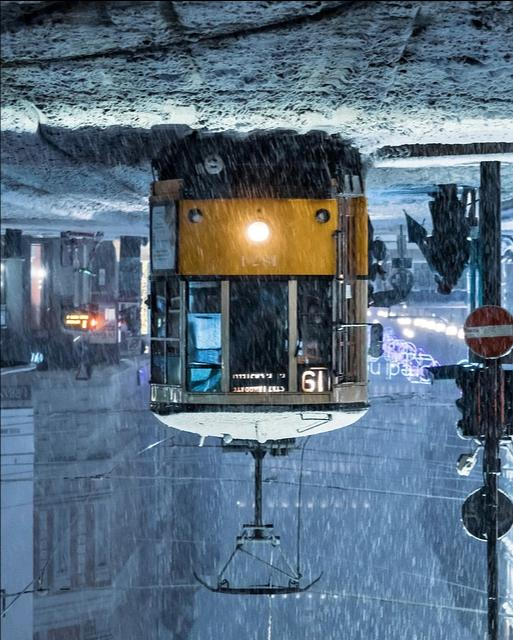Non_Gorille: (57, 98, 481, 538)
